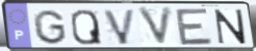E: (174, 7, 215, 47)
G: (32, 9, 69, 46)
N: (213, 8, 248, 46)
Q: (69, 8, 104, 46)
V: (136, 5, 176, 48), (101, 8, 138, 46)
